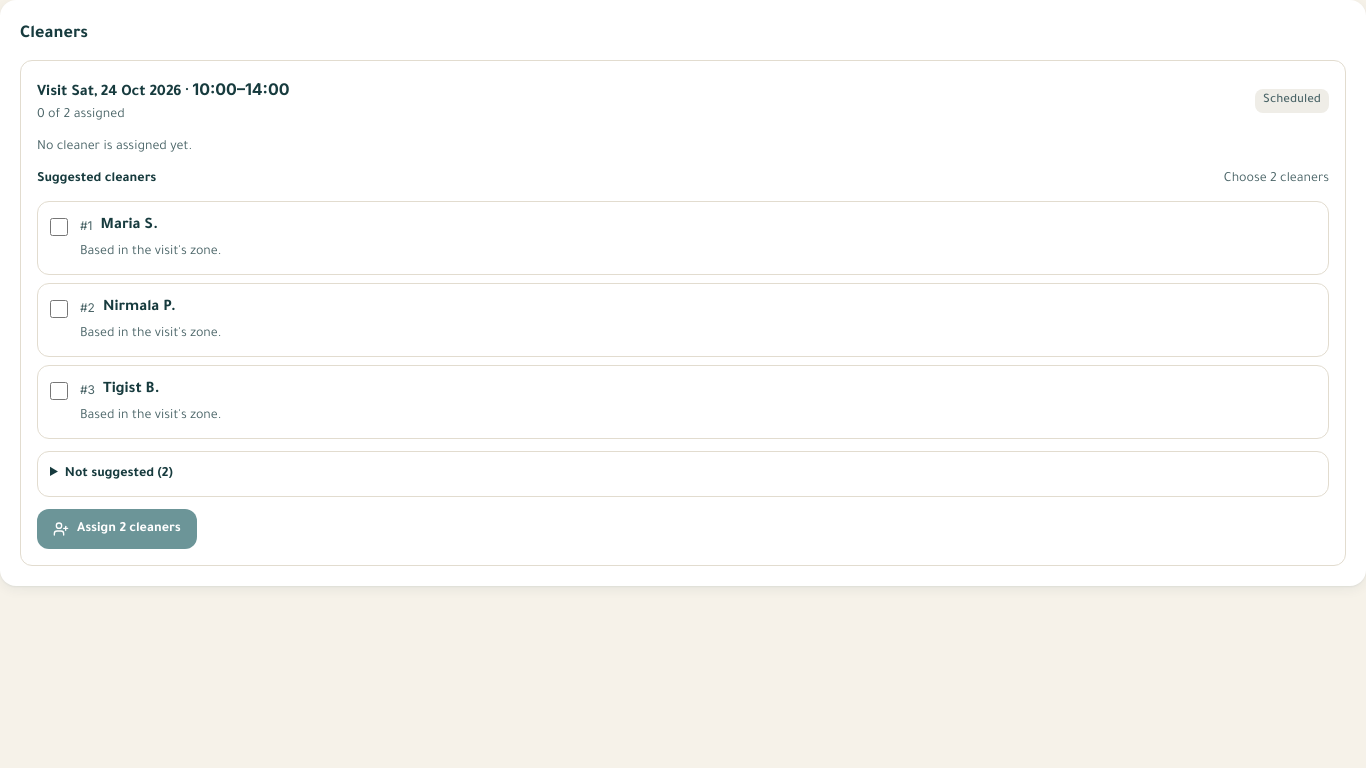
it: assignment panel (§8.5–§8.7) › moves focus to the visit's heading when assigning the last cleaners removes the picker
Click the checkbox named "Assign Maria S." at (59, 227), box [50,218,68,236]
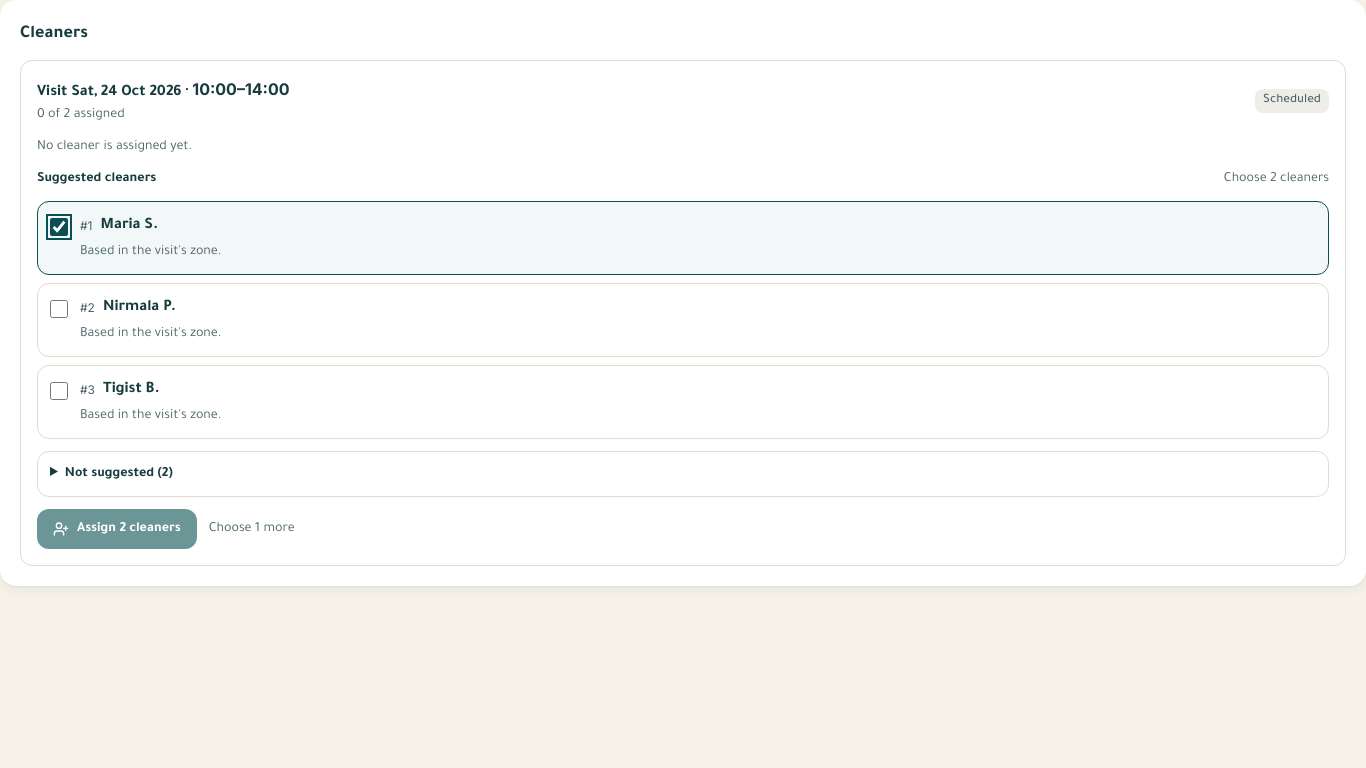
Click the checkbox named "Assign Nirmala P." at (59, 309), box [50,300,68,318]
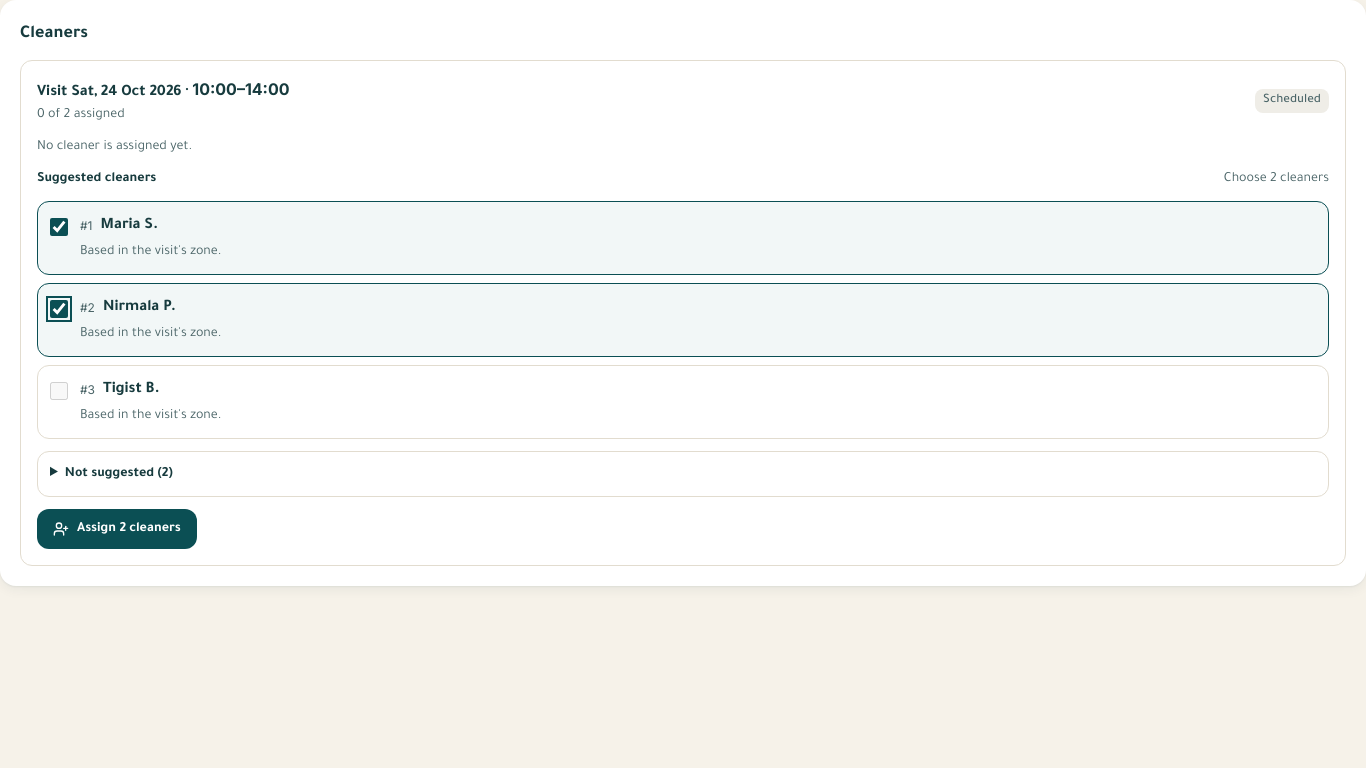
Click the button "Assign 2 cleaners" at (117, 529), box [37,509,197,549]
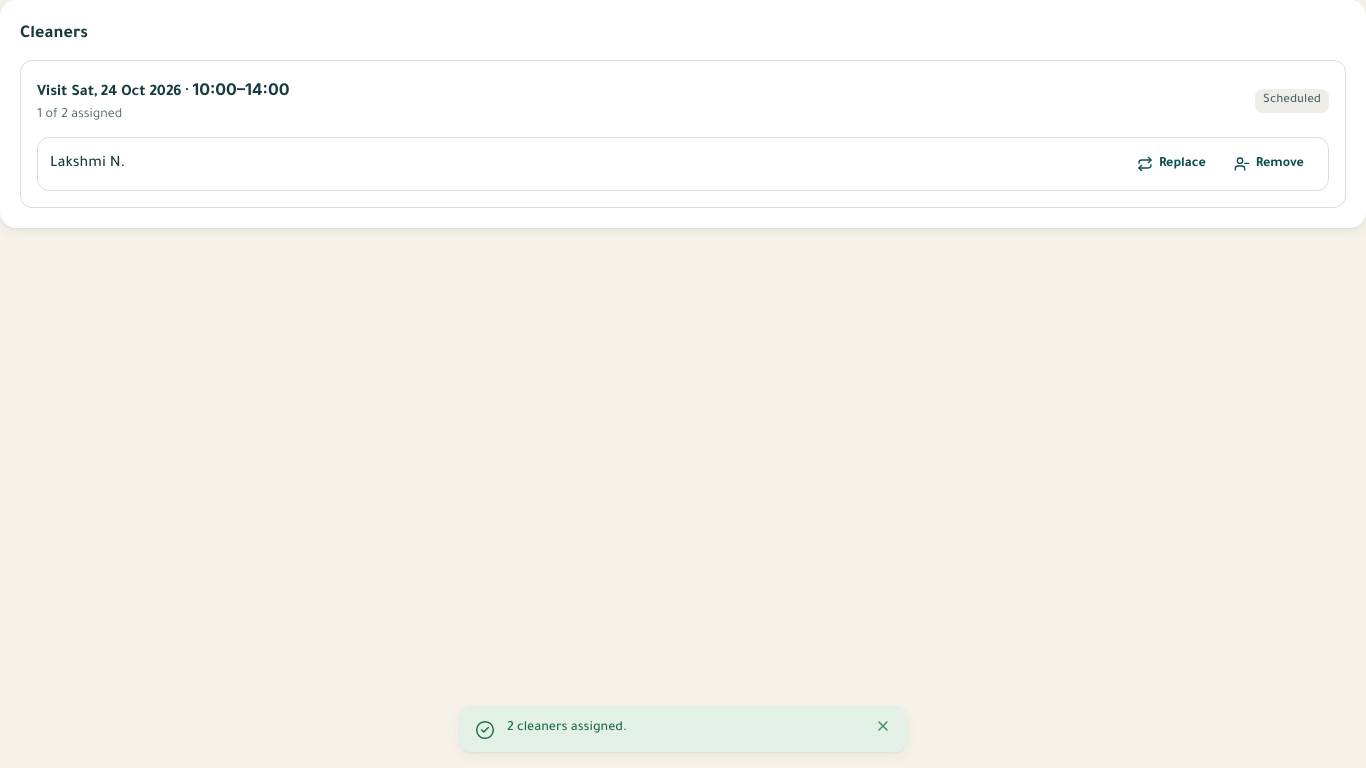
Expected: the button "Assign 2 cleaners" is gone
